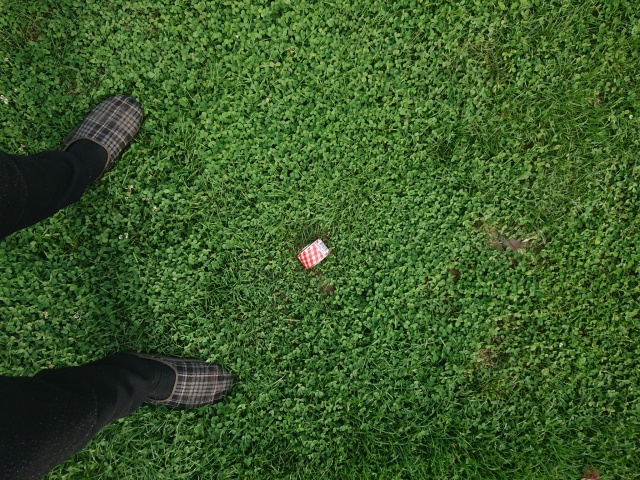Podravka Luncheon Meat 150g: (294, 235, 333, 272)
